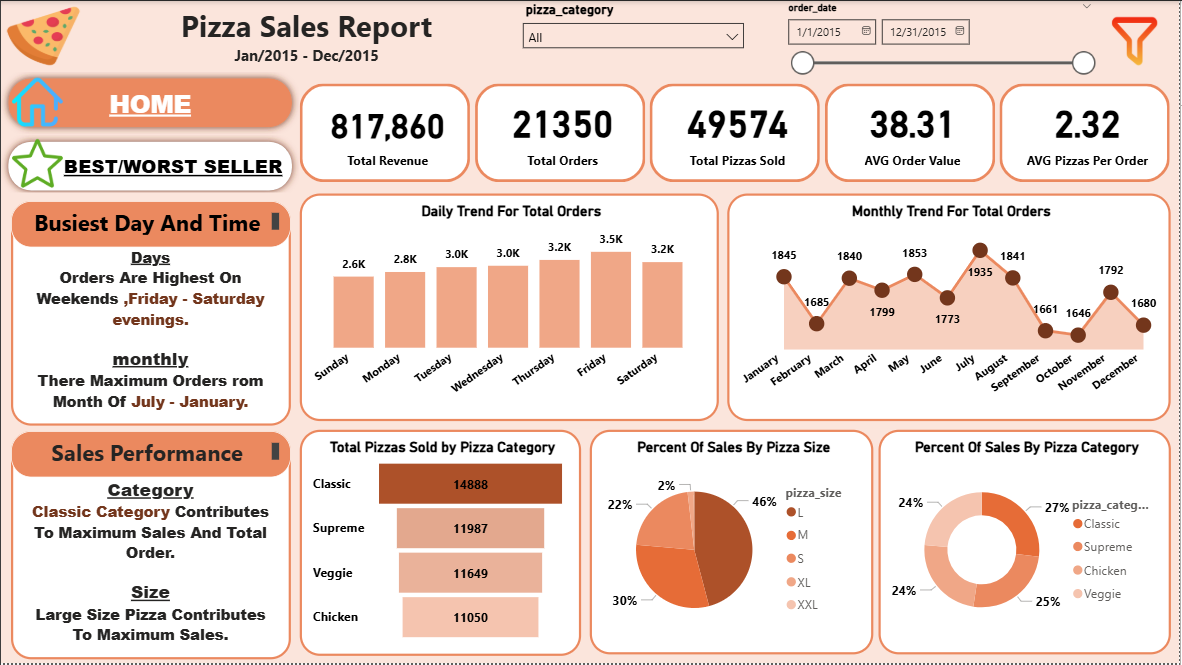

Layout of this report page (visuals, bound fields, positions):
{"tool":"powerbi","page":{"name":"HOME","canvas":[1280,720],"ordinal":0},"visuals":[{"type":"cardVisual","fields":{"Data":["Sum(Total_Revenue.Total Revenue)","Sum(Total_Orders.Total_Orders)","Sum(Total_Pizzas_Sold.Total_Pizzas_Sold)","Sum(AVG_Order_Value.AVG_Order_Value)","Min(AVG_Pizzas_Per_Order.AVG_Pizzas_Per_Order)"]},"box":[324.5,89.6,946.3,107.3],"z":0},{"type":"slicer","fields":{"Values":["pizza_sales.pizza_category"]},"box":[562.1,0,249.8,85.5],"z":1000},{"type":"slicer","fields":{"Values":["pizza_sales.order_date"]},"box":[821.4,0,366.6,85.5],"z":2000},{"type":"image","box":[1192,0,78.7,85.5],"z":3000},{"type":"textbox","box":[111.3,0,441.2,80.1],"z":4000},{"type":"image","box":[0,0,92.3,76],"z":5000},{"type":"clusteredColumnChart","title":"Daily Trend For Total Orders","fields":{"Category":["Daily_trend_for_total_orders (2).Order_day"],"Y":["Sum(Daily_trend_for_total_orders (2).Total_orders)"]},"box":[324.5,209.1,454.8,247.1],"z":6000},{"type":"areaChart","title":"Monthly Trend For Total Orders","fields":{"Category":["monthly_trend_for_total_orders (2).Month_Name"],"Y":["Sum(monthly_trend_for_total_orders (2).Total_orders)"]},"box":[788.8,209.1,482,247.1],"z":7000},{"type":"donutChart","title":"Percent Of Sales By Pizza Category","fields":{"Y":["Sum(percent_Of_Sales_By_Pizza_Category.Total_Revenue)"],"Category":["percent_Of_Sales_By_Pizza_Category.pizza_category"]},"box":[953.1,465.7,317.7,244.4],"z":8000},{"type":"pieChart","title":"Percent Of Sales By Pizza Size","fields":{"Category":["percent_Of_Sales_By_Pizza_Size.pizza_size"],"Y":["Sum(percent_Of_Sales_By_Pizza_Size.Total_Revenue)"]},"box":[639.5,465.7,308.2,244.4],"z":9000},{"type":"funnel","title":"Total Pizzas Sold by Pizza Category","fields":{"Category":["Total_Pizzas_Sold_by_Pizza_Category.pizza_category"],"Y":["Sum(Total_Pizzas_Sold_by_Pizza_Category.Total_Quantity_Sold)"]},"box":[324.5,465.7,305.5,245.7],"z":10000},{"type":"textbox","box":[10.9,217,304.1,244],"z":11000},{"type":"textbox","box":[10.9,467,304.1,248],"z":12000},{"type":"textbox","box":[10.9,467,304.1,50.2],"z":13000},{"type":"textbox","box":[10.9,217.2,304.1,50.2],"z":14000},{"type":"pageNavigator","box":[0,76,324.5,133.1],"z":15000},{"type":"image","box":[0,77.4,78.7,65.2],"z":16000},{"type":"image","box":[0,143.9,78.7,65.2],"z":17000}]}

Visuals, with their boxes in screenshot pixels (x1, y1, x2, y2), scaled from the page's 1280x720 canvas onto the 1182x665 screenshot:
cardVisual - Sum(Total_Revenue.Total Revenue) x Sum(Total_Orders.Total_Orders): 300/83/1174/182
slicer - pizza_sales.pizza_category: 519/0/750/79
slicer - pizza_sales.order_date: 759/0/1097/79
image: 1101/0/1173/79
textbox: 103/0/510/74
image: 0/0/85/70
"Daily Trend For Total Orders" clusteredColumnChart: 300/193/720/421
"Monthly Trend For Total Orders" areaChart: 728/193/1174/421
"Percent Of Sales By Pizza Category" donutChart: 880/430/1174/656
"Percent Of Sales By Pizza Size" pieChart: 591/430/875/656
"Total Pizzas Sold by Pizza Category" funnel: 300/430/582/657
textbox: 10/200/291/426
textbox: 10/431/291/660
textbox: 10/431/291/478
textbox: 10/201/291/247
pageNavigator: 0/70/300/193
image: 0/71/73/132
image: 0/133/73/193
